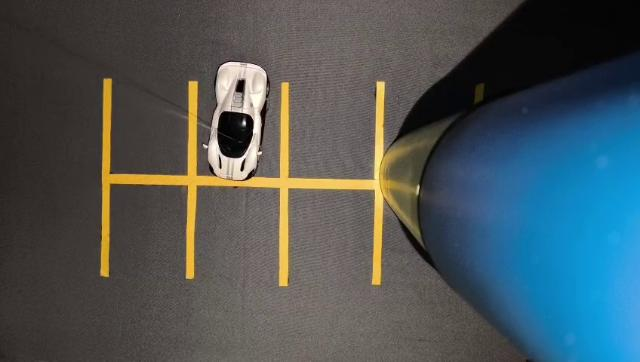toy_car: (191, 42, 307, 196)
